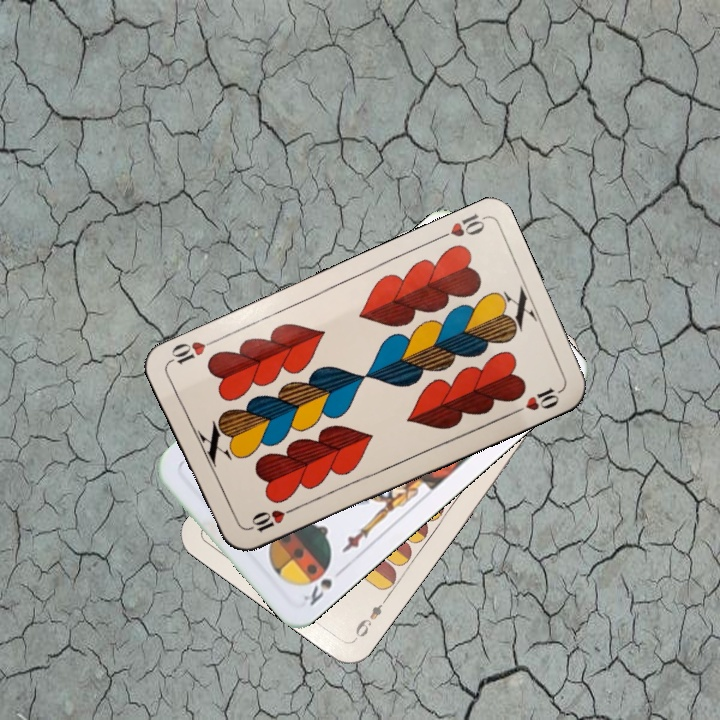E9: (351, 592, 391, 643)
H10: (431, 210, 488, 244), (242, 503, 298, 535)
SK: (297, 574, 335, 609)
